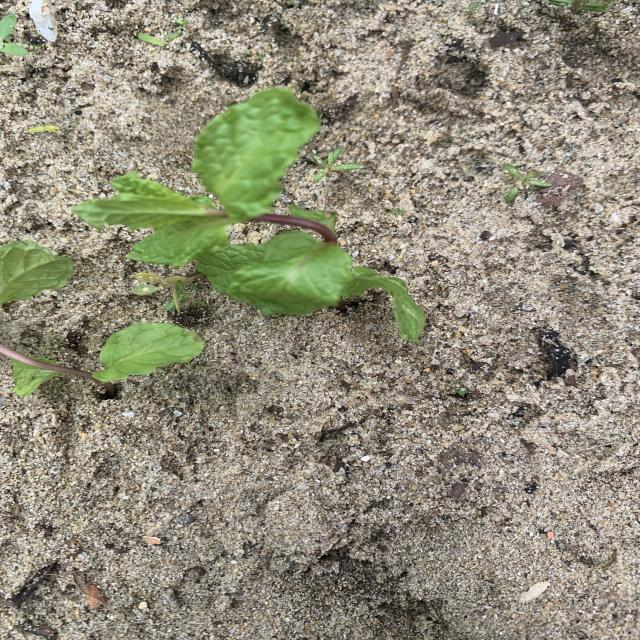crop: (74, 88, 423, 338), (1, 321, 201, 394)
weed: (133, 272, 201, 314), (504, 164, 548, 201), (312, 150, 360, 180), (137, 19, 187, 47), (0, 14, 28, 55), (448, 380, 466, 395), (28, 126, 59, 132), (391, 209, 404, 215)
